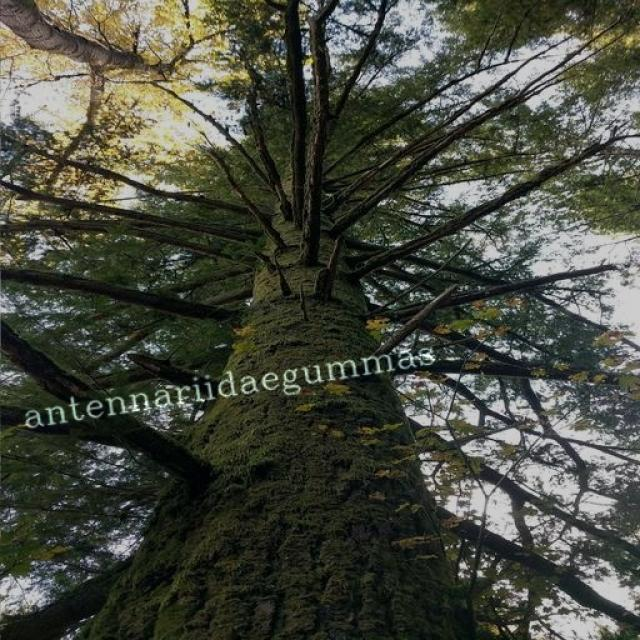watermark: (15, 337, 436, 433)
